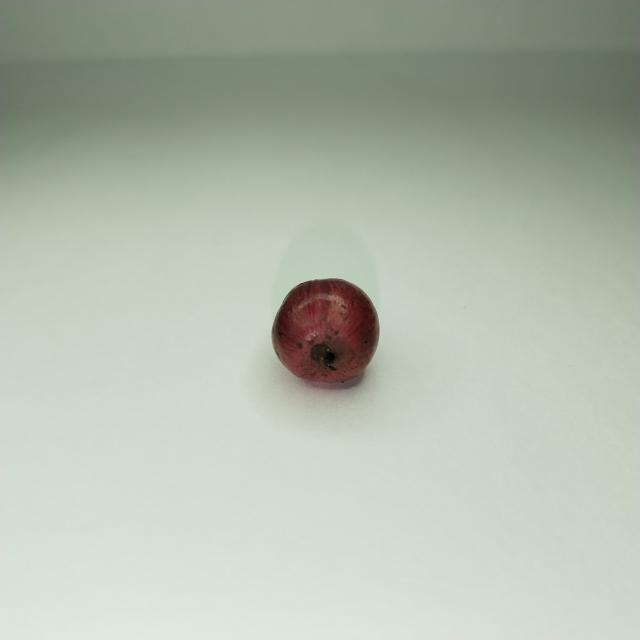Infectado: (272, 278, 379, 387)
